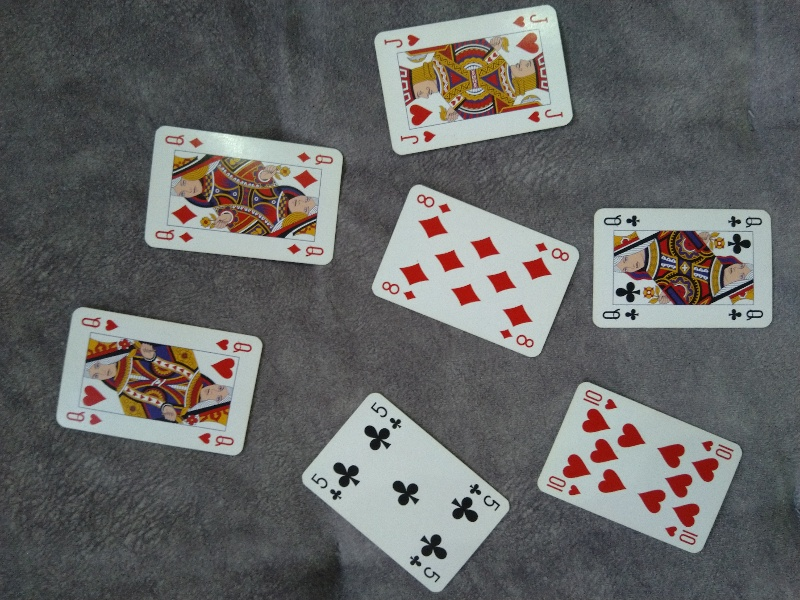5c: (468, 481, 502, 514), (370, 401, 404, 432), (309, 472, 344, 502), (406, 554, 441, 584)
8d: (534, 237, 571, 264), (497, 326, 536, 350), (415, 192, 452, 217), (381, 280, 418, 301)
Jh: (379, 31, 421, 50), (512, 10, 550, 30), (528, 107, 568, 126)
Qc: (599, 305, 642, 324), (726, 306, 769, 324), (602, 211, 643, 229), (726, 213, 765, 231)
Qd: (152, 227, 196, 246), (295, 149, 335, 168), (162, 133, 206, 150), (288, 242, 329, 259)
Qh: (212, 334, 254, 355), (197, 429, 239, 450), (80, 312, 120, 332), (64, 410, 104, 428)
Th: (660, 522, 701, 547), (544, 474, 583, 498), (581, 388, 619, 411), (701, 437, 735, 461)
